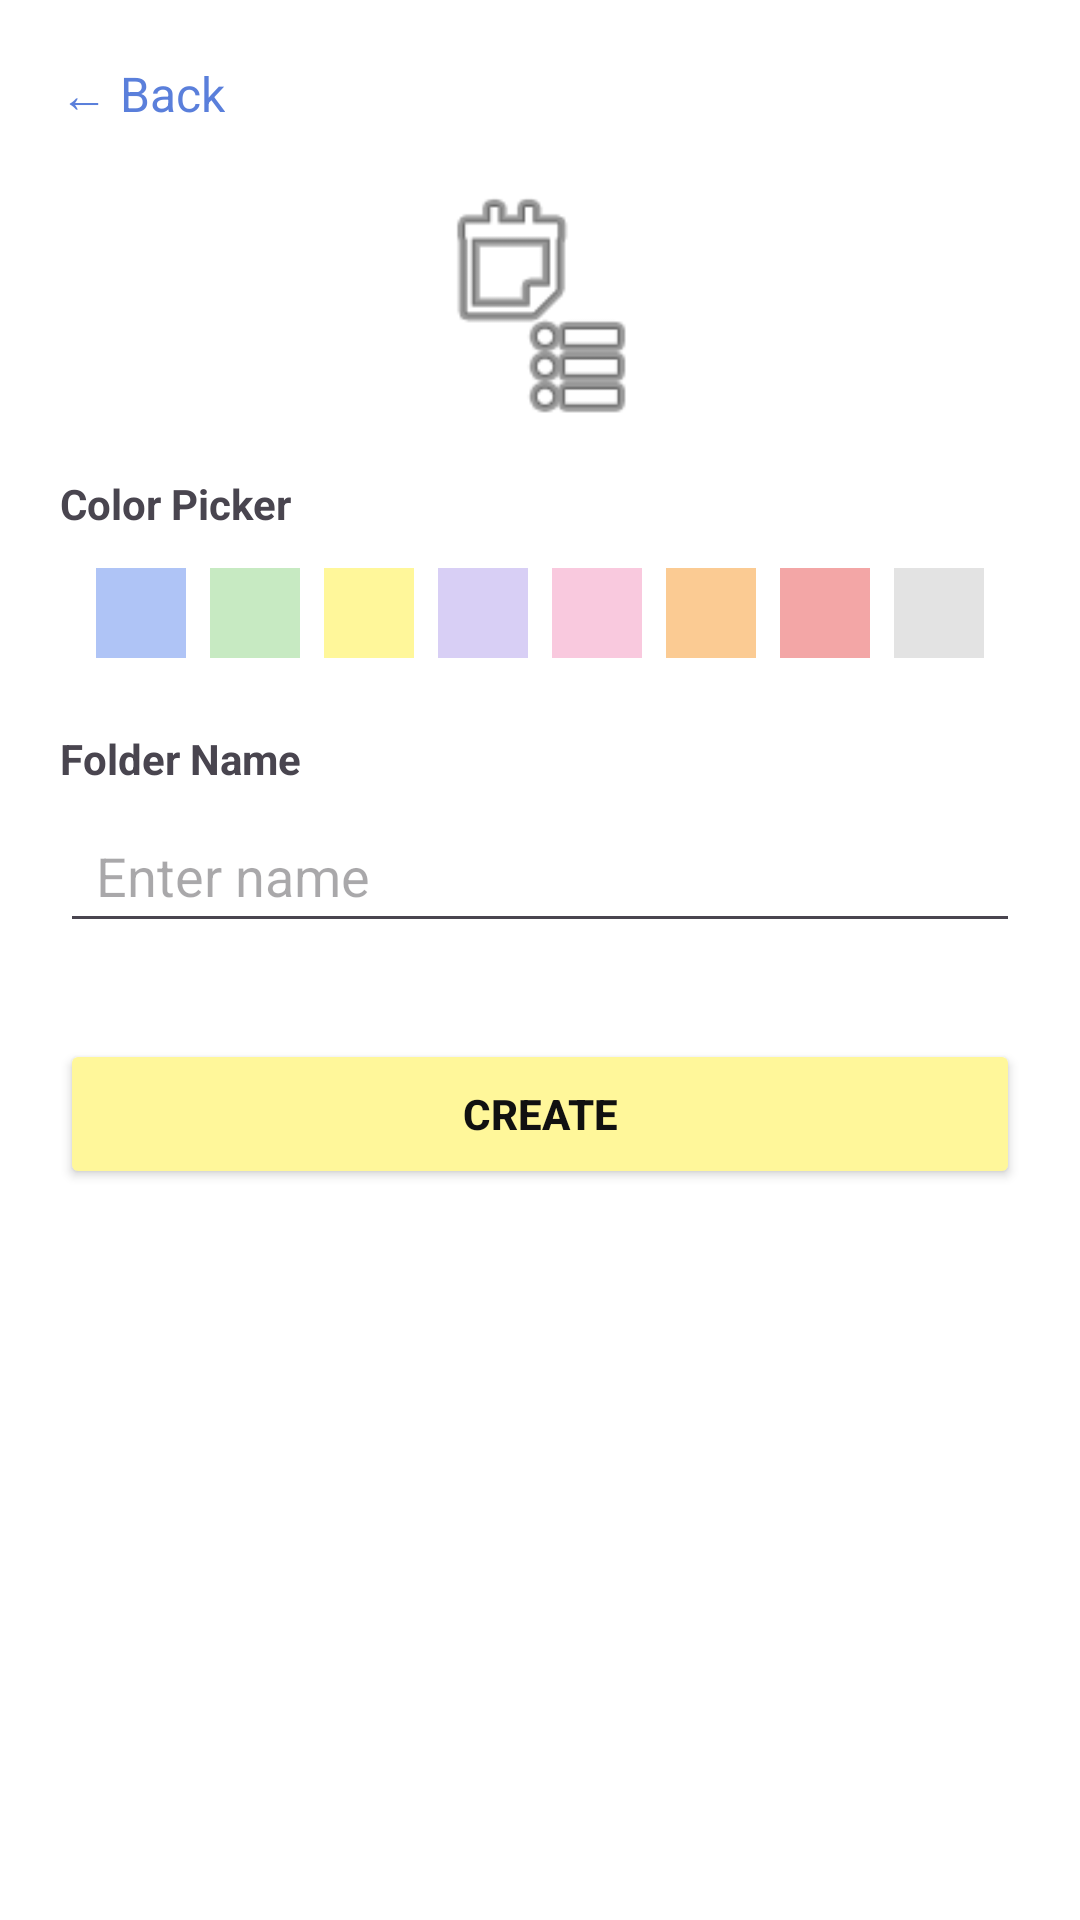

Where icons sit on this 1080w x 1920h app screen, as (x1, y1, x2, y2):
agenda: (457, 199, 626, 413)
